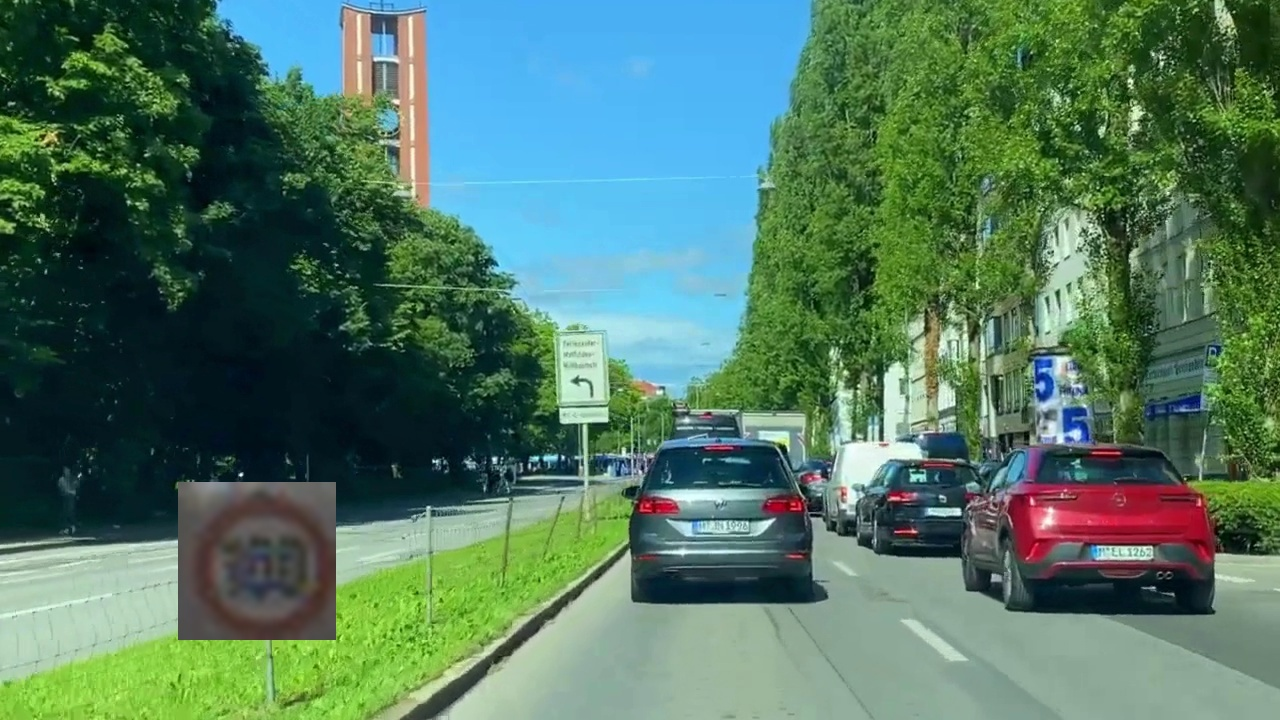Speed 100: (178, 482, 336, 640)
